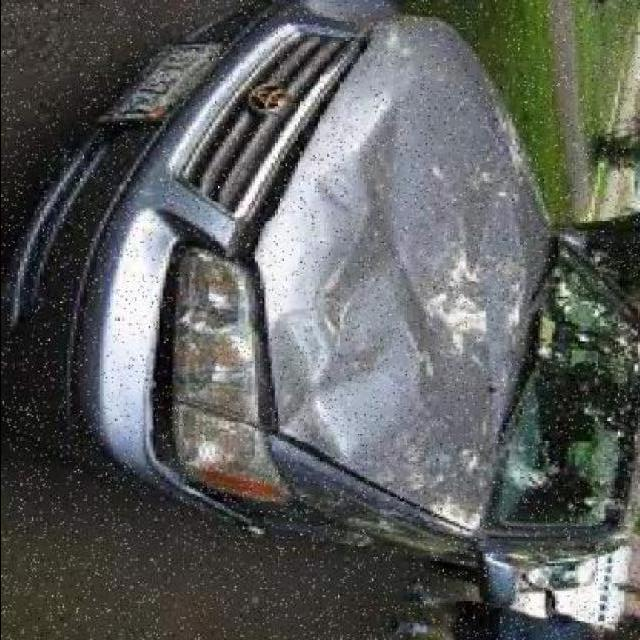bonnet-dent: (277, 42, 541, 480)
